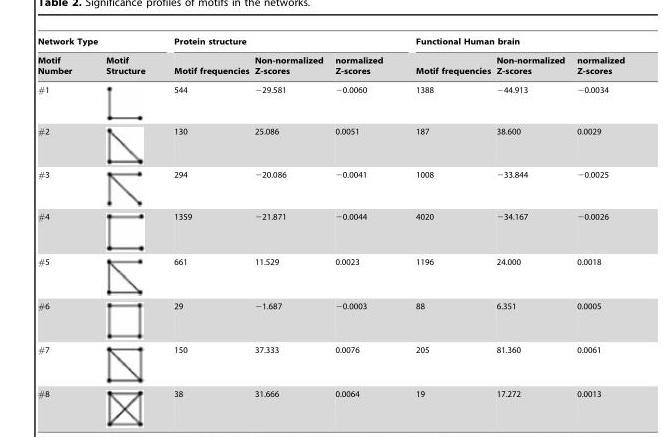table: (37, 36, 624, 398)
table column: (398, 36, 492, 398), (158, 36, 251, 398), (492, 36, 570, 398), (251, 36, 328, 398), (88, 36, 158, 398), (328, 36, 398, 398), (570, 36, 624, 398), (37, 36, 88, 398)
table column header: (37, 36, 624, 80)
table row: (37, 195, 624, 239), (37, 239, 624, 283), (37, 283, 624, 327), (37, 327, 624, 371), (37, 152, 624, 195), (37, 110, 624, 152), (37, 50, 624, 80), (37, 80, 624, 110), (37, 371, 624, 398), (37, 36, 624, 50)
table spanning cell: (158, 36, 398, 50), (398, 36, 624, 50), (37, 36, 158, 50)
